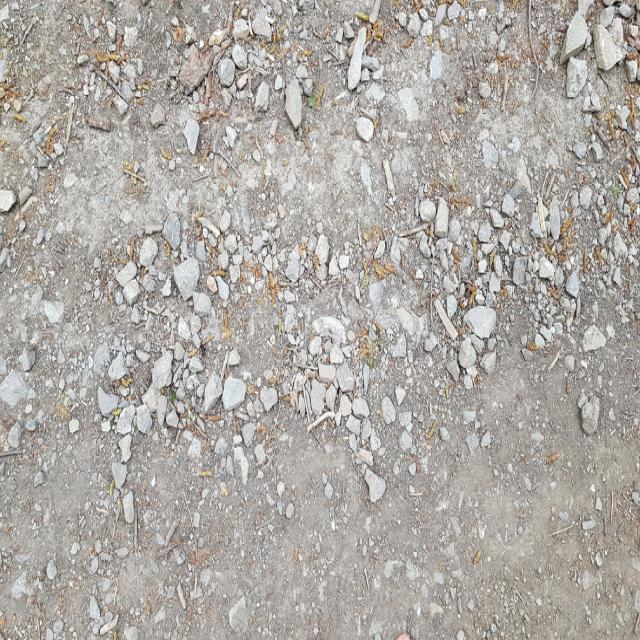rocks: (97, 149, 636, 435), (163, 0, 389, 155), (521, 0, 639, 126), (281, 316, 379, 466), (391, 0, 490, 84), (76, 14, 150, 124), (115, 240, 171, 305), (378, 385, 418, 451), (0, 187, 39, 213), (577, 391, 599, 433), (360, 470, 384, 502), (582, 321, 606, 352), (107, 350, 129, 382), (0, 370, 20, 405), (117, 439, 130, 462)
white-sand: (0, 342, 639, 639), (0, 124, 350, 341), (0, 126, 32, 189), (460, 405, 490, 455)
